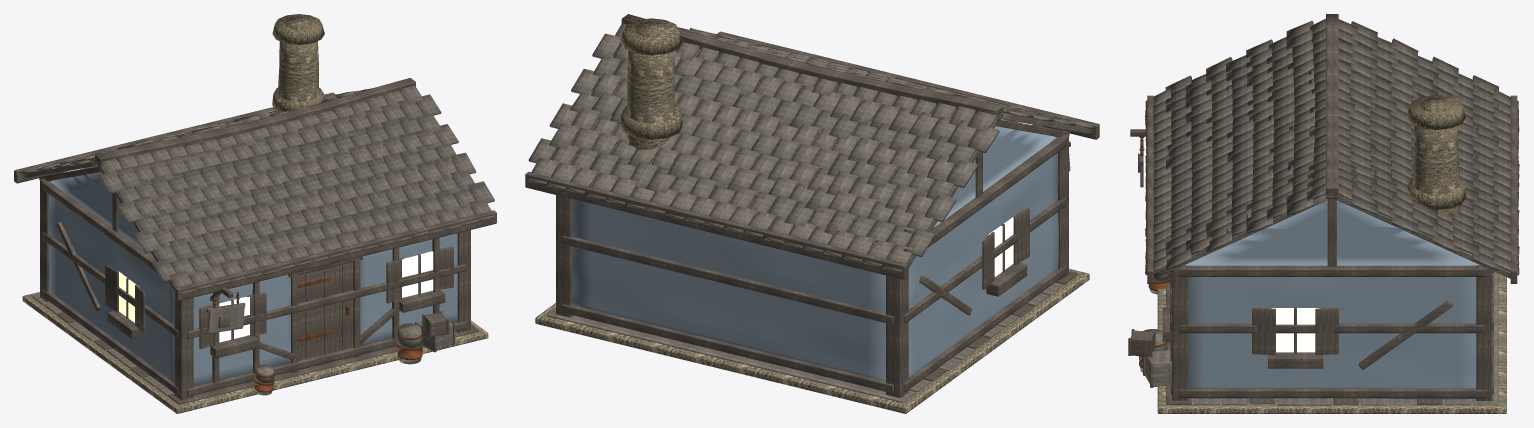
Rendered from tavern.glb.
3 renders of one model, left to right at view 1: azimuth 30°, elevation 25°; view 2: azimuth 150°, elevation 25°; view 3: azimuth 270°, elevation 25°, orthographic. The views are drawn at different scales.
Visible parts, largest first — view 1: tavern, door; view 2: tavern; view 3: tavern.
Part boxes in pixels (left/top/right/bottom): tavern: left=14, top=14, right=496, bottom=413; door: left=298, top=262, right=353, bottom=369; tavern: left=525, top=14, right=1099, bottom=413; tavern: left=1128, top=14, right=1519, bottom=413.
Bounding box in the file's own units: 9.05 × 6.32 × 8.18.
Materials: 5 (4 with a texture image).
